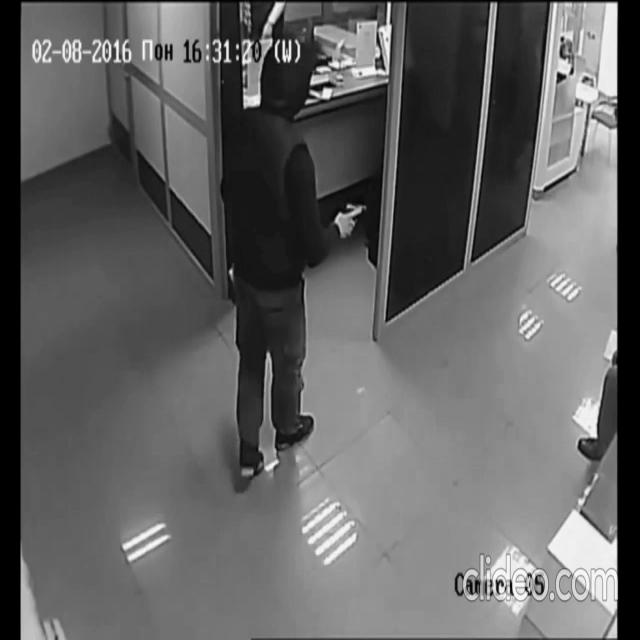gun: (334, 198, 368, 245)
person with a gun: (220, 42, 370, 480)
